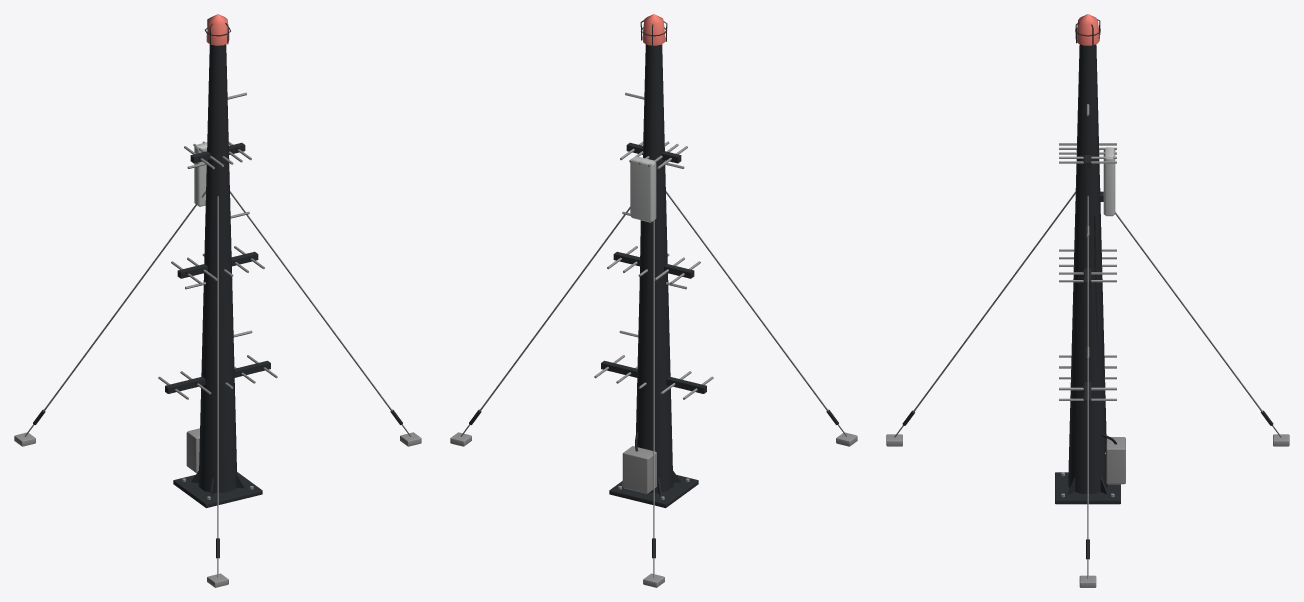
File: Antenna_Mast_3m.fbx
3 renders of one model, left to right at view 1: azimuth 30°, elevation 25°; view 2: azimuth 150°, elevation 25°; view 3: azimuth 270°, elevation 25°, orthographic.
Visible parts, largest first — view 1: Antenna_Mast_3m_LOD0; view 2: Antenna_Mast_3m_LOD0; view 3: Antenna_Mast_3m_LOD0.
Boxes of the visible parts, left/top/right/bottom form: Antenna_Mast_3m_LOD0: left=14, top=14, right=421, bottom=587; Antenna_Mast_3m_LOD0: left=450, top=14, right=857, bottom=587; Antenna_Mast_3m_LOD0: left=886, top=14, right=1289, bottom=587.
Size of what is drawn, in the model's own units: 2.12 by 3.18 by 2.44.
